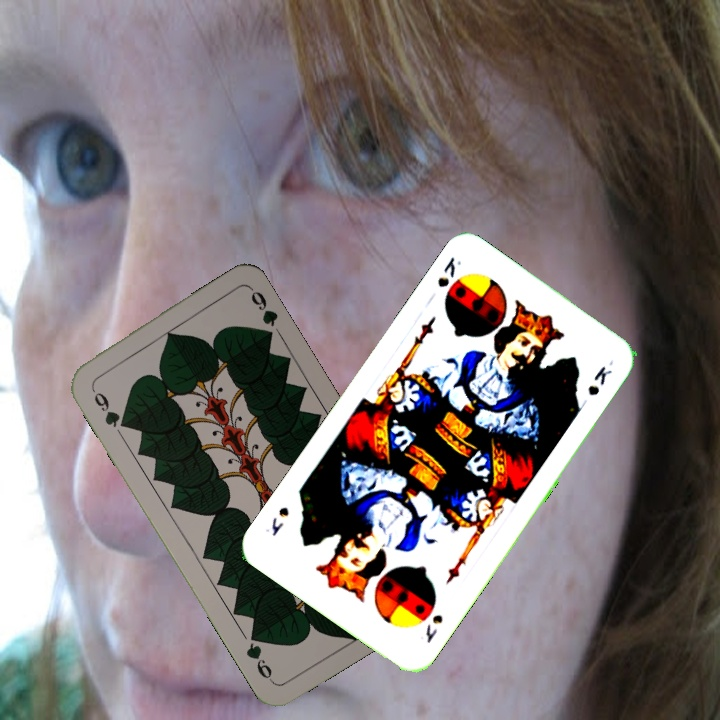G9: (87, 383, 131, 431)
SK: (433, 252, 464, 290), (421, 610, 446, 646)
